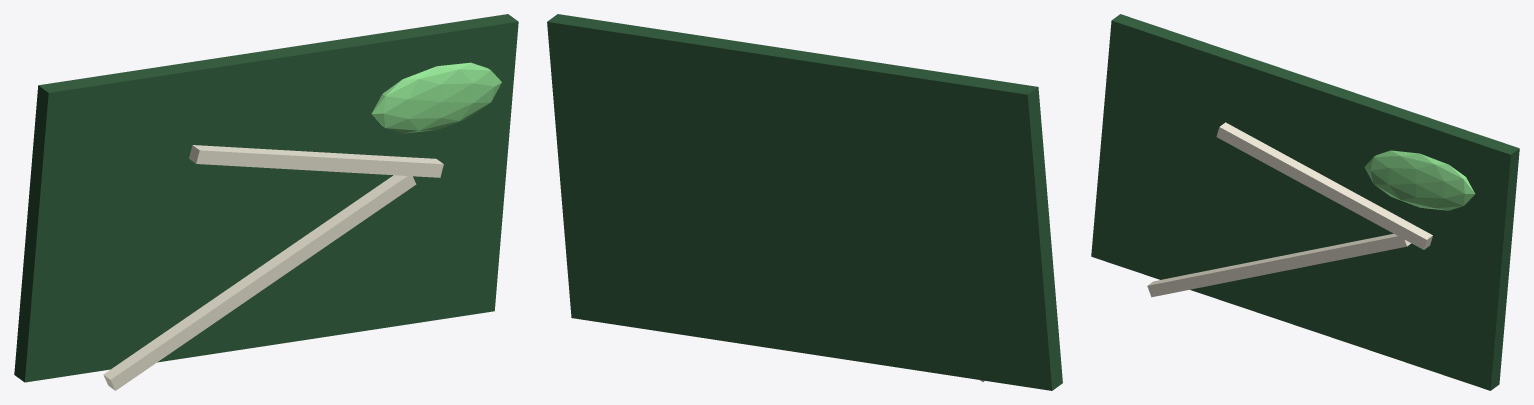
Rendered from 06_weathering_wear_overlay_6.glb.
3 renders of one model, left to right at view 1: azimuth 30°, elevation 25°; view 2: azimuth 150°, elevation 25°; view 3: azimuth 330°, elevation 25°, orthographic. The views are drawn at different scales.
Parts seen in each view (by area): view 1: wear_plate, scratch_a, rust_or_moss_spot, scratch_b; view 2: wear_plate; view 3: wear_plate, rust_or_moss_spot, scratch_b, scratch_a.
Boxes of the visible parts, <box> form: wear_plate: <box>14,14,518,382</box>; scratch_a: <box>103,175,416,390</box>; rust_or_moss_spot: <box>371,62,501,133</box>; scratch_b: <box>189,145,443,177</box>; wear_plate: <box>547,14,1062,390</box>; wear_plate: <box>1091,14,1519,390</box>; rust_or_moss_spot: <box>1364,150,1474,210</box>; scratch_b: <box>1216,122,1432,249</box>; scratch_a: <box>1147,233,1411,297</box>.
Size of the model in its own units: 1.36 by 0.8613 by 0.134.
